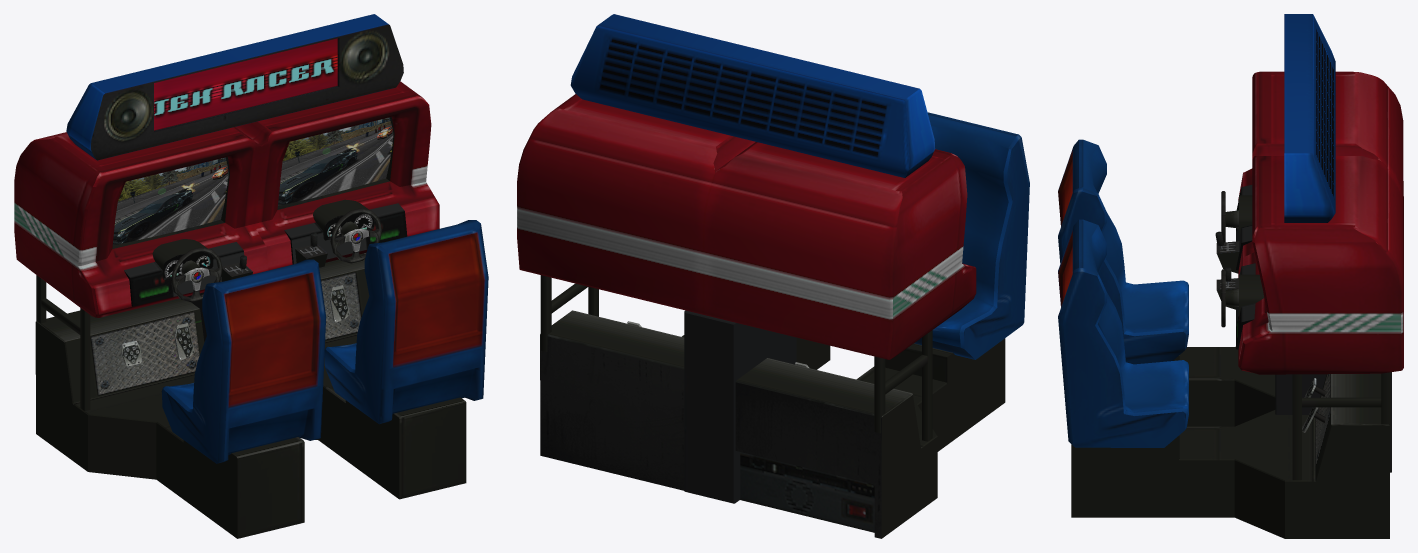
Rendered from arcade-3.FBX.
The picture shows the model from 3 angles, left to right: view 1: azimuth 30°, elevation 25°; view 2: azimuth 150°, elevation 25°; view 3: azimuth 270°, elevation 25°; orthographic projection. The views are drawn at different scales.
Parts seen in each view (by area): view 1: game_machine-3_LOD0; view 2: game_machine-3_LOD0; view 3: game_machine-3_LOD0.
Part boxes in pixels (box(x1,y1,x2,y2)): game_machine-3_LOD0: box(14, 14, 488, 538); game_machine-3_LOD0: box(517, 14, 1029, 538); game_machine-3_LOD0: box(1058, 14, 1403, 538).
Size of what is drawn, in the model's own units: 76.66 by 78.81 by 65.4.
